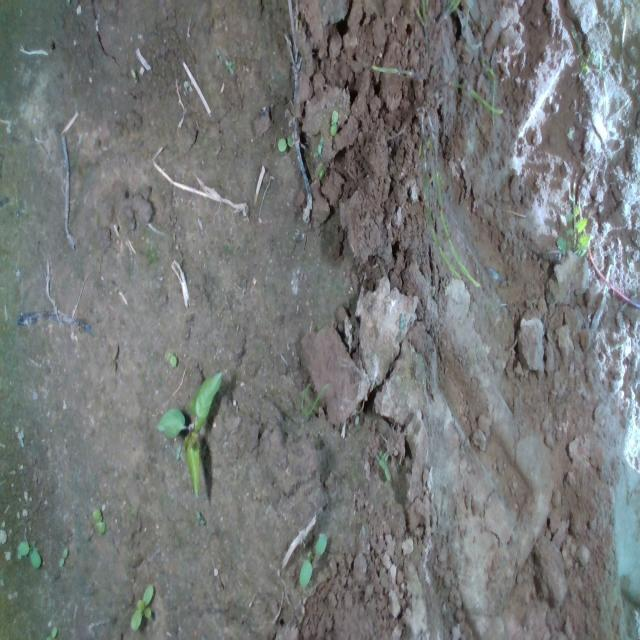weed: (153, 366, 223, 502), (298, 529, 327, 589), (130, 582, 154, 631), (16, 540, 42, 568), (92, 507, 106, 535), (276, 132, 292, 152), (329, 108, 339, 136), (57, 545, 69, 568), (164, 347, 176, 366)
